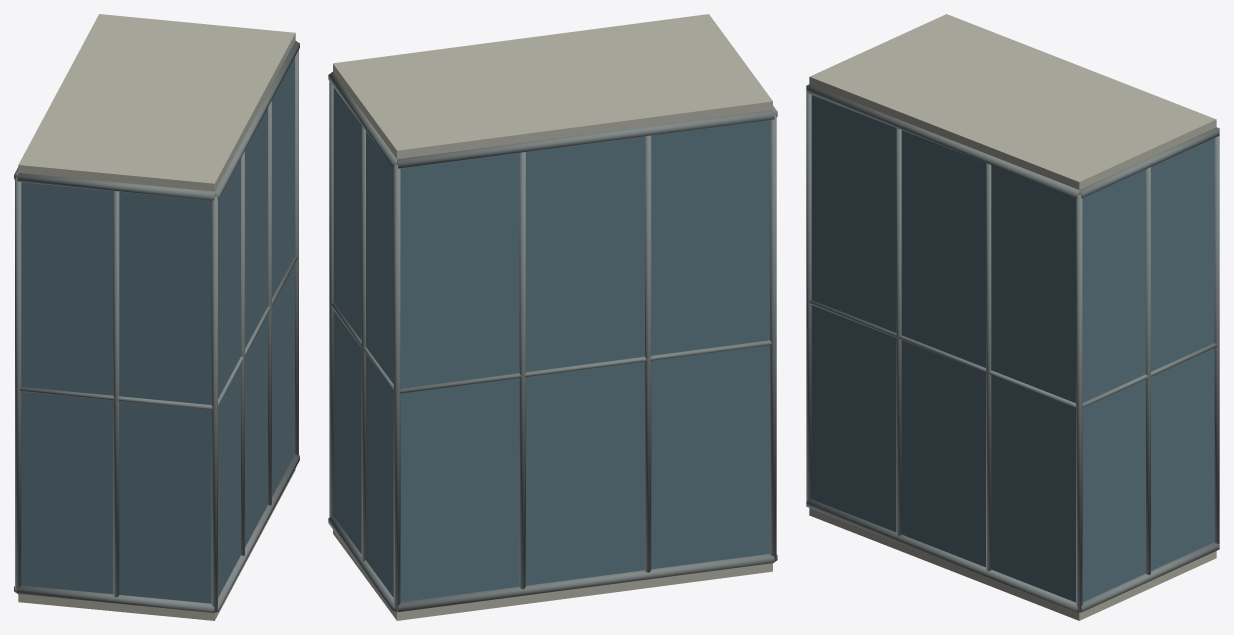
Rendered from connector-v1-v2-lod1.glb.
The picture shows the model from 3 angles, left to right: view 1: azimuth 30°, elevation 25°; view 2: azimuth 150°, elevation 25°; view 3: azimuth 270°, elevation 25°; orthographic projection. The views are drawn at different scales.
Parts seen in each view (by area): view 1: connector-v1-v2_MATERIAL_BATCH; view 2: connector-v1-v2_MATERIAL_BATCH; view 3: connector-v1-v2_MATERIAL_BATCH.
Boxes of the visible parts, bbox=[...] form: connector-v1-v2_MATERIAL_BATCH: bbox=[14, 14, 299, 620]; connector-v1-v2_MATERIAL_BATCH: bbox=[328, 14, 777, 620]; connector-v1-v2_MATERIAL_BATCH: bbox=[806, 14, 1219, 620].
Bounding box in the file's own units: 4.4 × 5.27 × 4.5.
